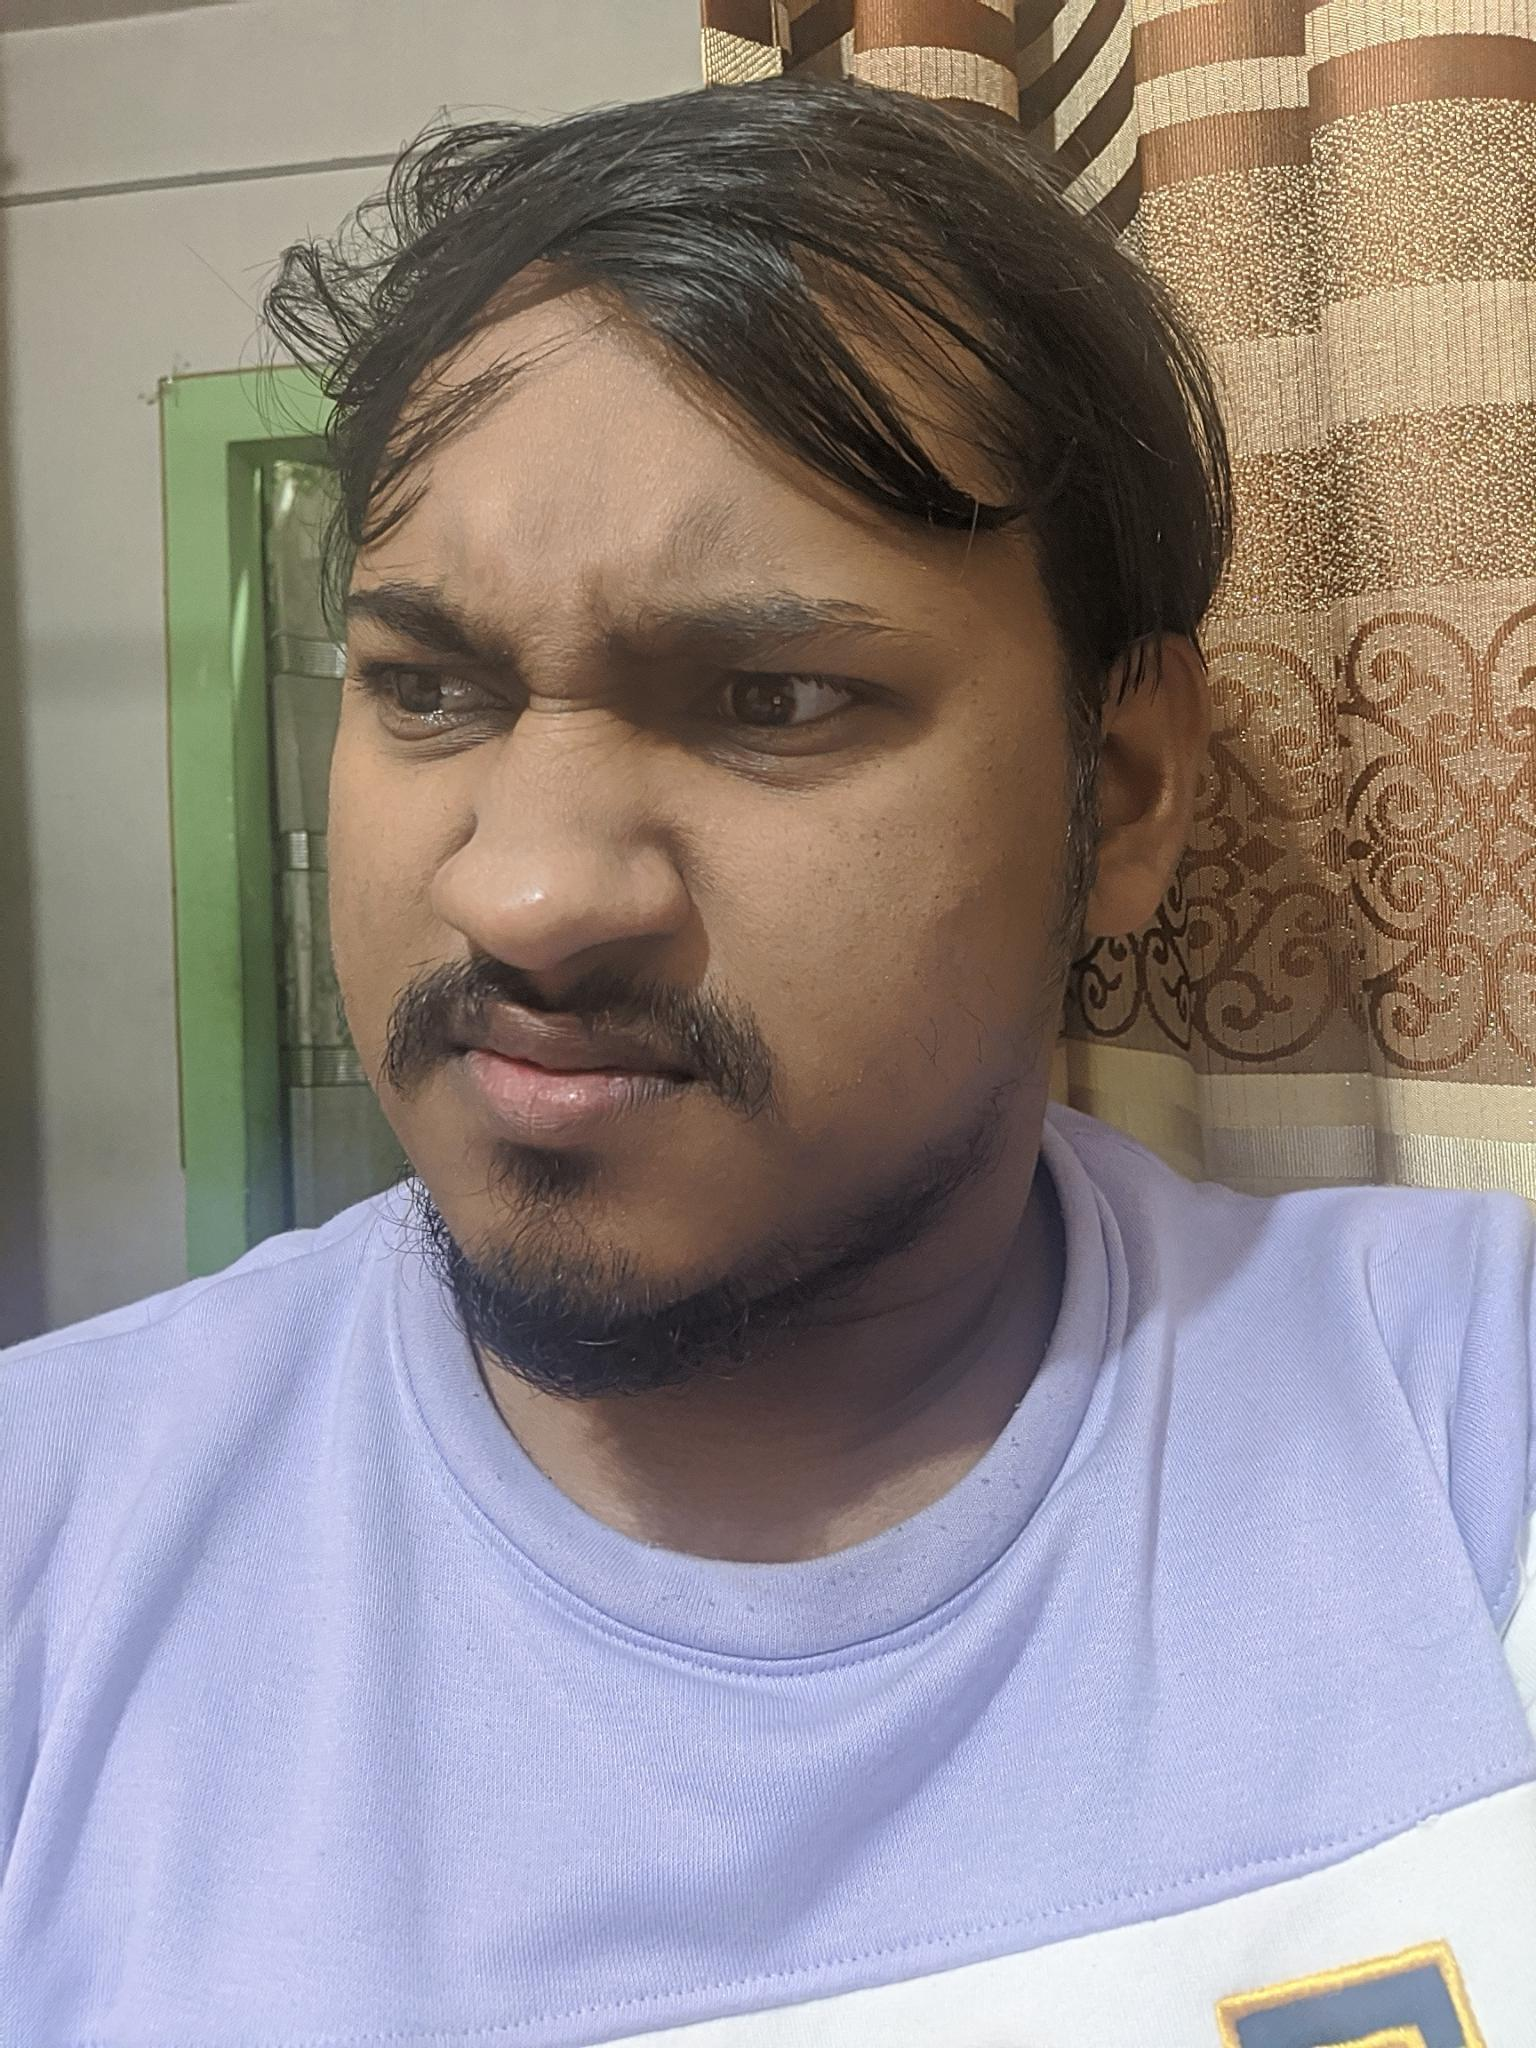Angry: (245, 463, 1008, 1408)
